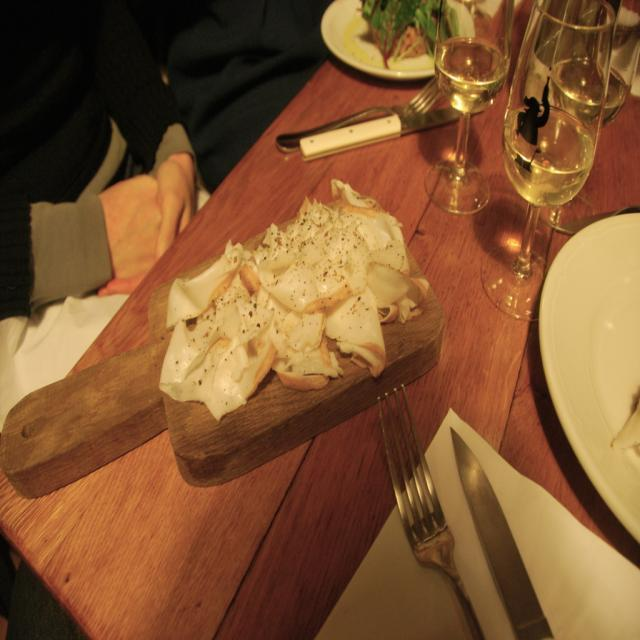ceramic plate: (562, 198, 640, 527)
